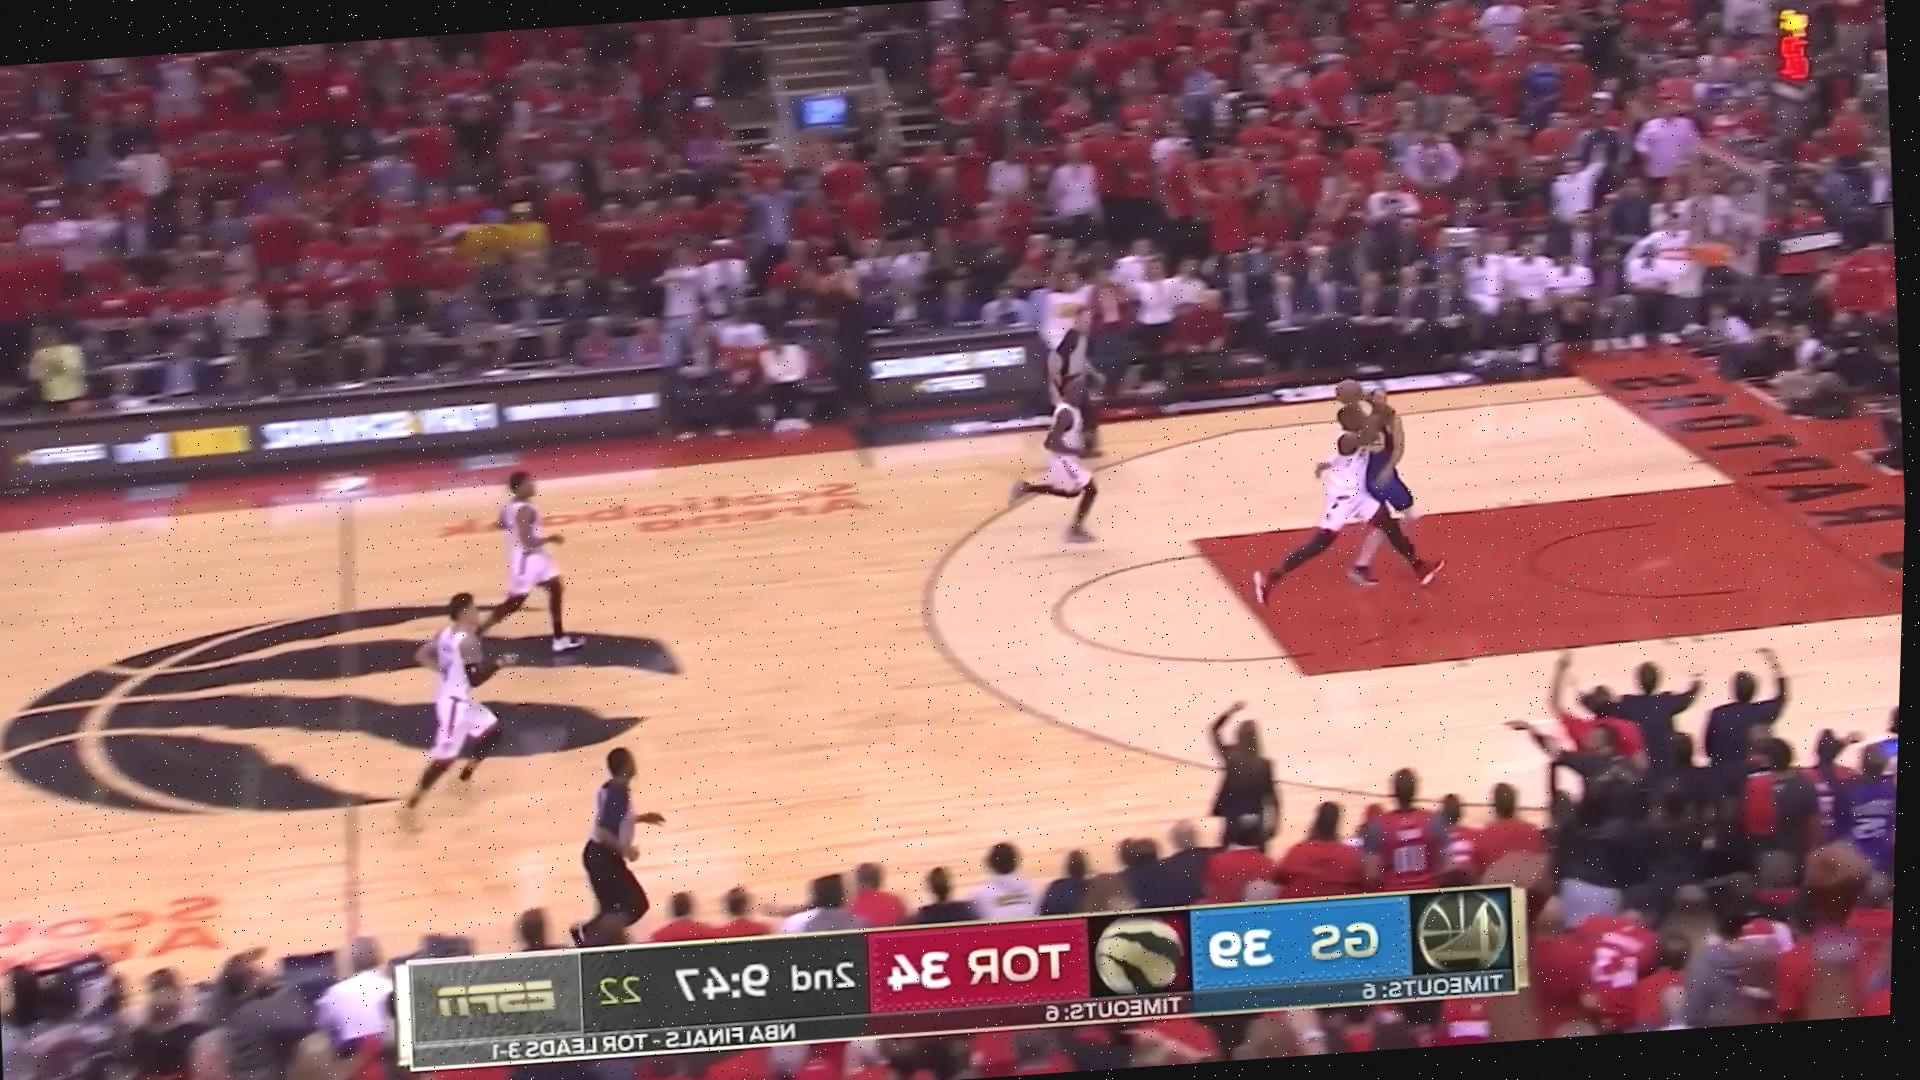foul: (1210, 365, 1467, 611)
